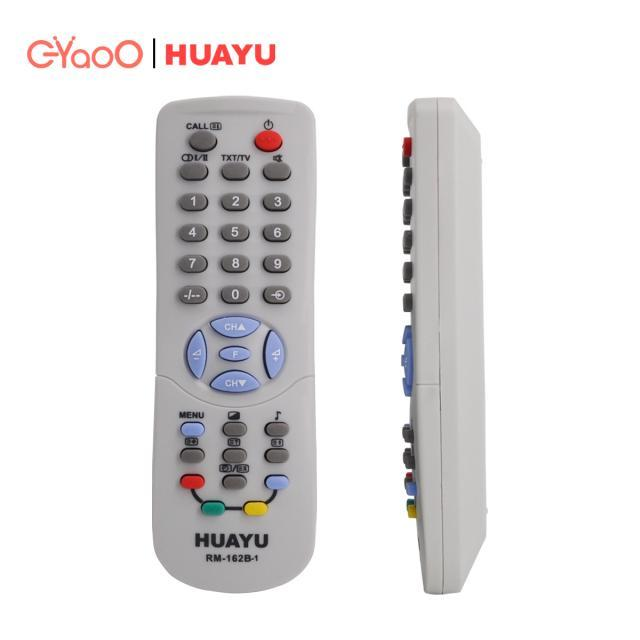remote: (152, 94, 315, 594), (394, 100, 484, 590)
